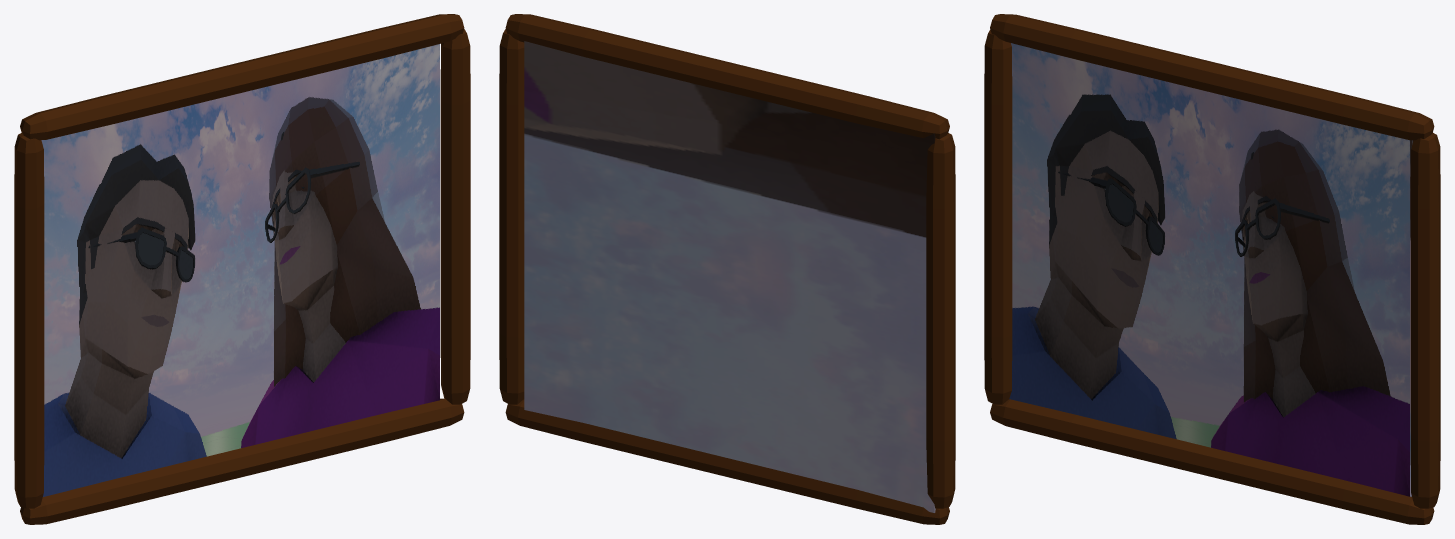
Rendered from Quadroo.fbx.
The picture shows the model from 3 angles, left to right: view 1: azimuth 30°, elevation 25°; view 2: azimuth 150°, elevation 25°; view 3: azimuth 330°, elevation 25°; orthographic projection.
Parts seen in each view (by area): view 1: Cube.004, Cube.002, Cube.003, Cube, Cube.001; view 2: Cube.004, Cube.002, Cube, Cube.001, Cube.003; view 3: Cube.004, Cube.002, Cube.003, Cube.001, Cube.
Boxes of the visible parts, x1,y1,x2,y2 form: Cube.004: (41,44,439,496); Cube.002: (20,14,464,140); Cube.003: (20,398,464,524); Cube: (14,133,44,508); Cube.001: (440,29,470,404); Cube.004: (524,41,935,512); Cube.002: (505,14,949,139); Cube: (926,133,955,508); Cube.001: (499,29,524,404); Cube.003: (505,399,949,524); Cube.004: (1009,43,1413,496); Cube.002: (990,14,1434,140); Cube.003: (990,399,1434,524); Cube.001: (1410,133,1440,508); Cube: (984,29,1012,404).
Size of the model in its own units: 2364 by 2056 by 138.
